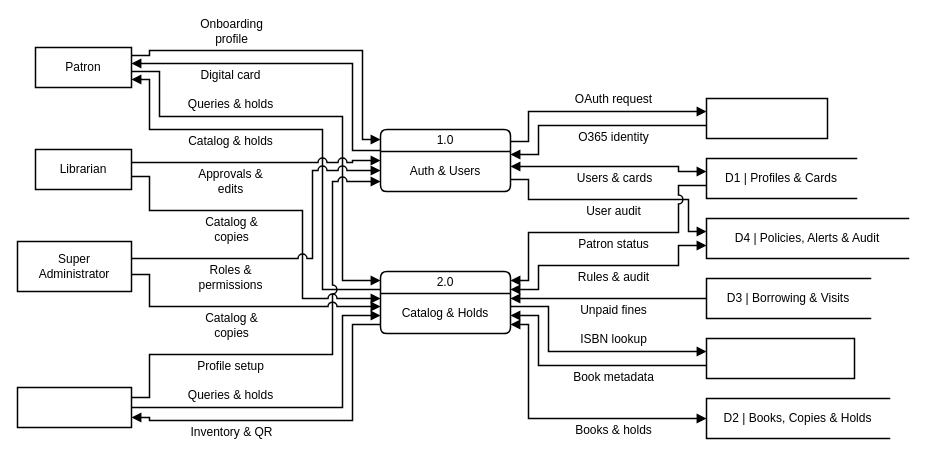
This 927x457 diagram has some shape labels left out. Each missing label, with the box of its shape:
Book Metadata APIs: (705, 337, 855, 379)
Library Staff: (16, 386, 132, 428)
Microsoft O365: (705, 97, 828, 139)
